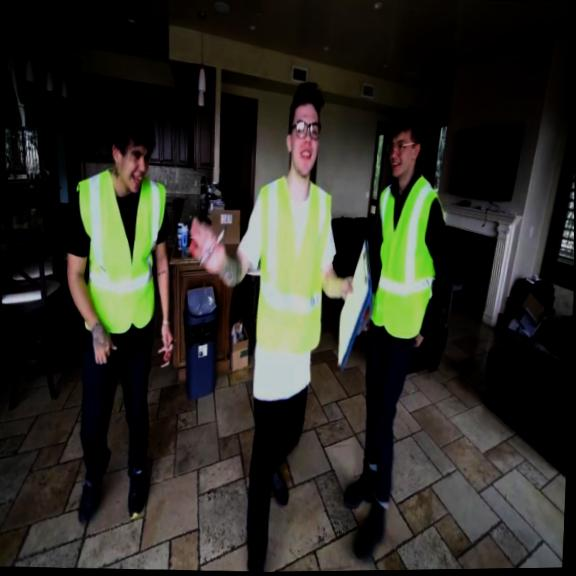safety_vest: (64, 169, 170, 335), (253, 171, 332, 355), (370, 172, 440, 339)
